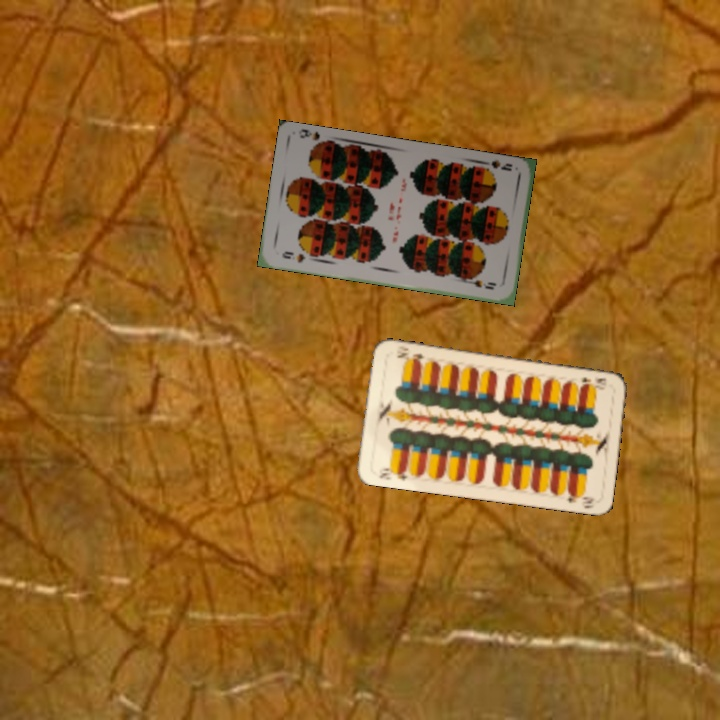E10: (375, 464, 410, 483), (578, 373, 609, 390)
S9: (478, 156, 515, 174), (278, 247, 308, 265)
